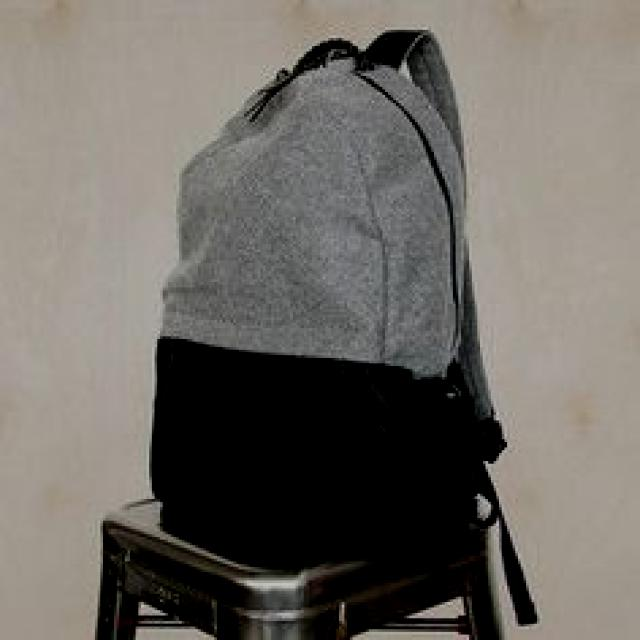backpack: (148, 29, 538, 625)
